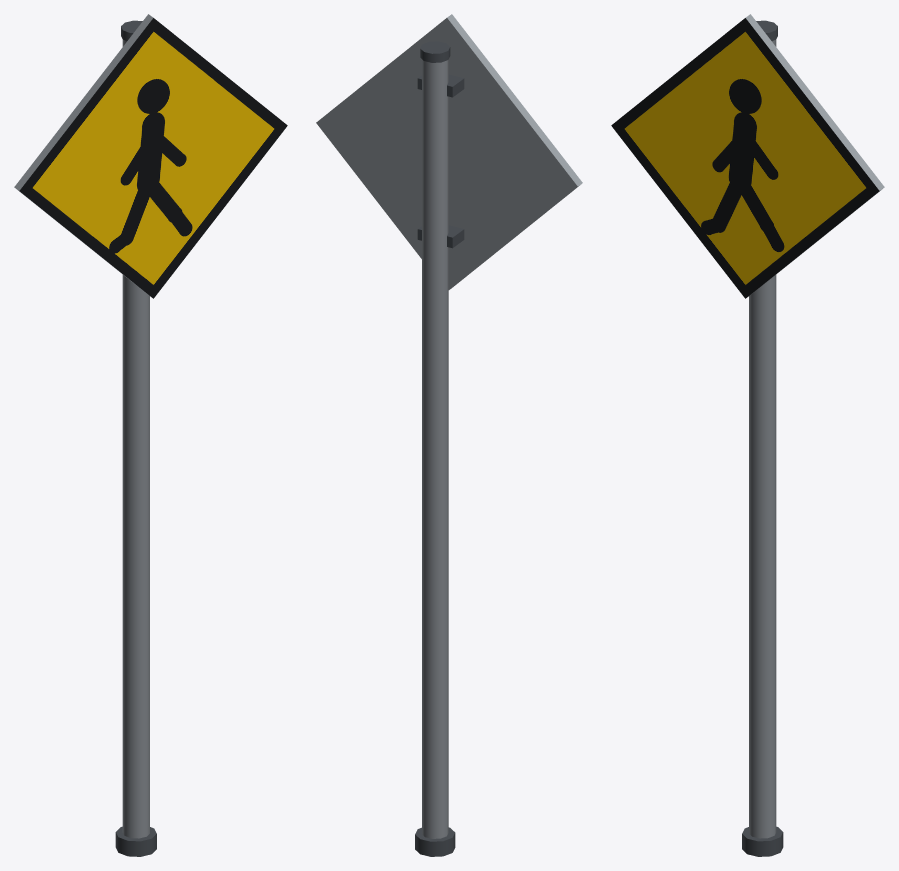
File: placa-pedestres.glb
The picture shows the model from 3 angles, left to right: view 1: azimuth 30°, elevation 25°; view 2: azimuth 150°, elevation 25°; view 3: azimuth 330°, elevation 25°; orthographic projection. The views are drawn at different scales.
Visible parts, largest first — view 1: Placa, Poste; view 2: Placa, Poste, Suportes; view 3: Placa, Poste.
Part boxes in pixels (x1,y1,x2,y2): Placa: [14, 14, 287, 298]; Poste: [115, 20, 156, 856]; Placa: [316, 14, 582, 289]; Poste: [415, 41, 455, 856]; Suportes: [417, 74, 464, 248]; Placa: [611, 14, 884, 298]; Poste: [742, 20, 783, 856].
Size of the model in its own units: 0.9 by 2.7 by 0.1571.
4 materials, 1 textured.
